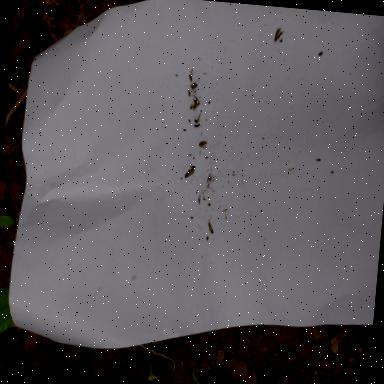pbw: (274, 27, 286, 43), (185, 168, 195, 180), (207, 220, 214, 234), (199, 141, 210, 149), (191, 84, 198, 90), (194, 100, 198, 109), (188, 75, 193, 81), (187, 90, 191, 96), (196, 102, 200, 108)
